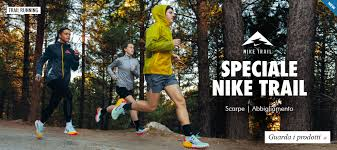nike: (252, 42, 264, 46)
